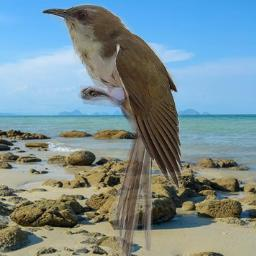Cuckoo: (41, 2, 181, 256)
